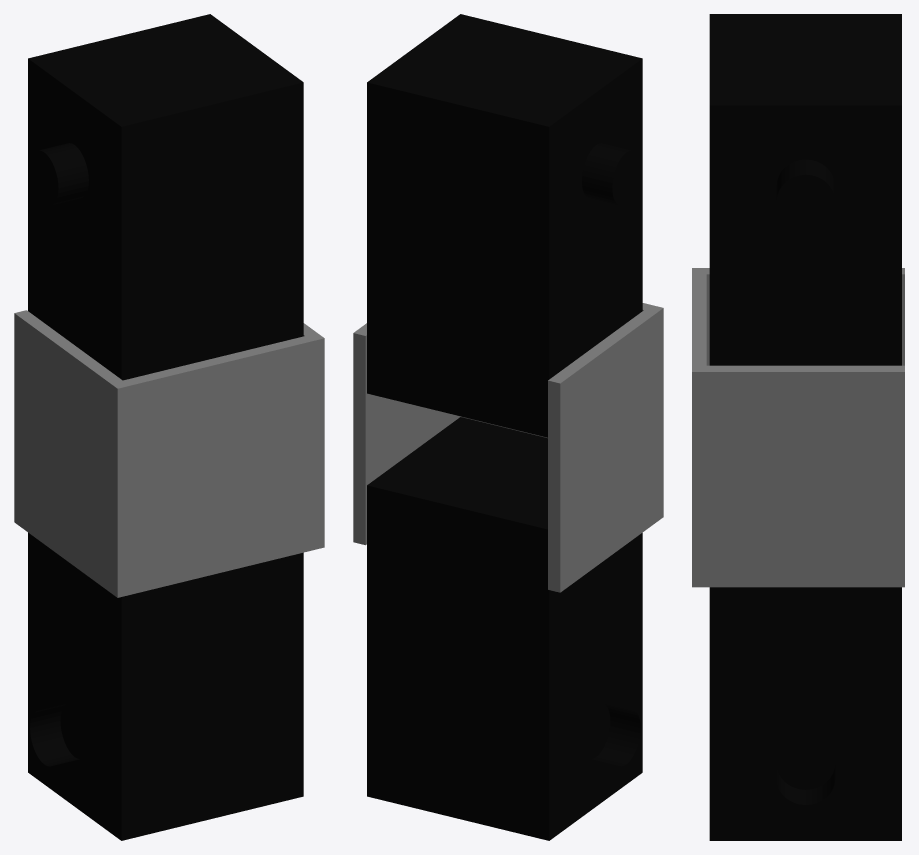
File: arm.dae
3 renders of one model, left to right at view 1: azimuth 30°, elevation 25°; view 2: azimuth 150°, elevation 25°; view 3: azimuth 270°, elevation 25°, orthographic. The views are drawn at different scales.
Parts seen in each view (by area): view 1: arm; view 2: arm; view 3: arm.
Boxes of the visible parts, bbox=[...] form: arm: bbox=[14, 14, 324, 840]; arm: bbox=[353, 14, 663, 840]; arm: bbox=[692, 14, 904, 840].
Size of the model in its own units: 0.0295 by 0.0217 by 0.0828.
1 material, 1 textured.
